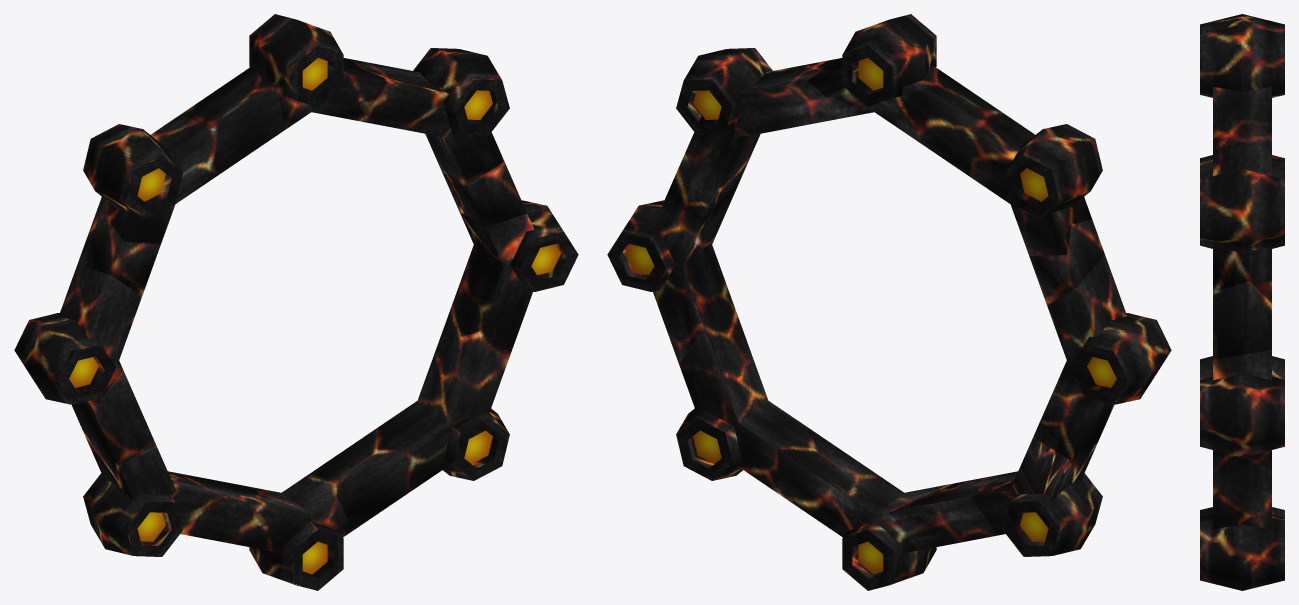
The model's file is wanyudo_ring_broken.fbx.
3 renders of one model, left to right at view 1: azimuth 30°, elevation 25°; view 2: azimuth 150°, elevation 25°; view 3: azimuth 270°, elevation 25°, orthographic.
Parts seen in each view (by area): view 1: wheel_broken, wheel_broken.012, wheel_broken.009, wheel_broken.014, wheel_broken.006, wheel_broken.011, wheel_broken.004, wheel_broken.001, wheel_broken.010, wheel_broken.003, wheel_broken.007, wheel_broken.002 (+2 smaller); view 2: wheel_broken.012, wheel_broken, wheel_broken.009, wheel_broken.006, wheel_broken.014, wheel_broken.004, wheel_broken.011, wheel_broken.001, wheel_broken.010, wheel_broken.003, wheel_broken.002, wheel_broken.007 (+2 smaller); view 3: wheel_broken.012, wheel_broken.014, wheel_broken, wheel_broken.011, wheel_broken.013, wheel_broken.009, wheel_broken.006, wheel_broken.004, wheel_broken.001.
Part boxes in pixels (x1,y1,x2,y2): wheel_broken: (377,305,510,491); wheel_broken.012: (349,48,509,184); wheel_broken.009: (83,114,219,244); wheel_broken.014: (452,200,578,356); wheel_broken.006: (14,264,142,408); wheel_broken.011: (245,14,387,129); wheel_broken.004: (83,440,227,556); wheel_broken.001: (249,476,353,590); wheel_broken.010: (181,71,284,173); wheel_broken.003: (306,427,409,529); wheel_broken.007: (72,370,155,483); wheel_broken.002: (186,474,272,551); wheel_broken.012: (676,48,847,193); wheel_broken: (676,310,810,493); wheel_broken.009: (969,109,1102,255); wheel_broken.006: (1047,254,1171,409); wheel_broken.014: (607,200,735,363); wheel_broken.004: (971,437,1102,556); wheel_broken.011: (807,14,937,129); wheel_broken.001: (832,475,952,590); wheel_broken.010: (900,69,996,175); wheel_broken.003: (777,428,877,529); wheel_broken.002: (889,477,997,550); wheel_broken.007: (1033,395,1113,476); wheel_broken.012: (1200,122,1284,303); wheel_broken.014: (1200,350,1284,514); wheel_broken: (1200,485,1284,590); wheel_broken.011: (1200,24,1284,133); wheel_broken.013: (1213,281,1271,359); wheel_broken.009: (1200,14,1284,34); wheel_broken.006: (1200,155,1284,179); wheel_broken.004: (1200,356,1284,379); wheel_broken.001: (1200,507,1284,517).
Bounding box in the file's own units: 261 × 261 × 36.
